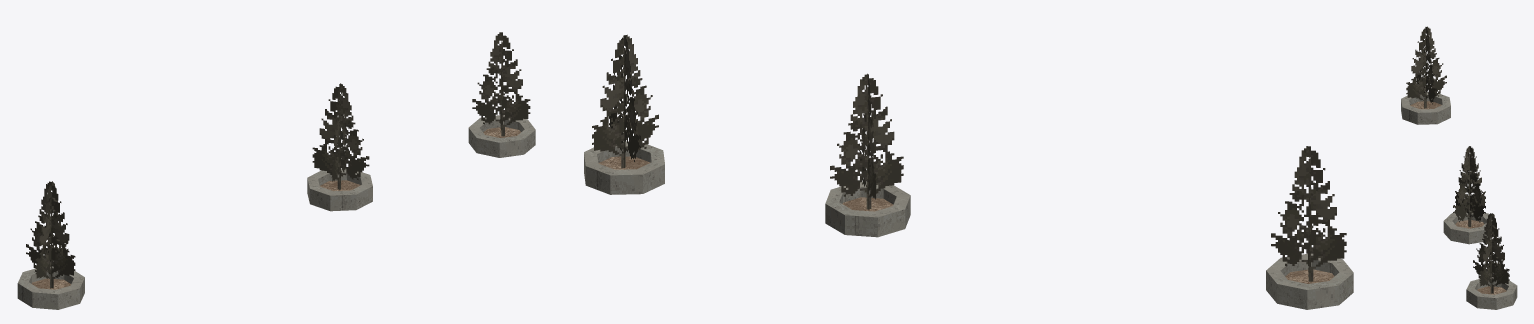
File: procgen-procpain-tree-park-pine-large-xm2zm3.obj
The picture shows the model from 3 angles, left to right: view 1: azimuth 30°, elevation 25°; view 2: azimuth 150°, elevation 25°; view 3: azimuth 270°, elevation 25°; orthographic projection. The views are drawn at different scales.
Size of the model in its own units: 52.07 by 10.11 by 13.05.
